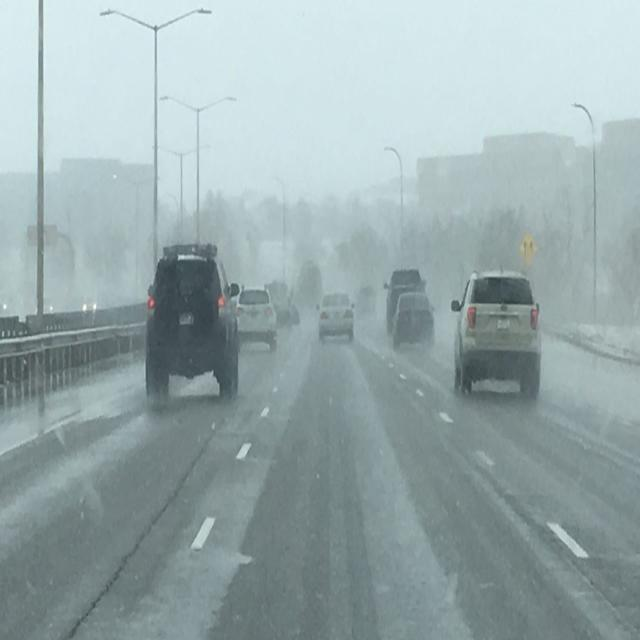car: (143, 243, 237, 402), (452, 268, 542, 400), (385, 273, 429, 347), (237, 287, 277, 349), (393, 290, 433, 349), (317, 292, 353, 342), (356, 283, 376, 318)
